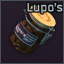Can of Dr. Lupos coffee beans: (0, 0, 64, 64)
